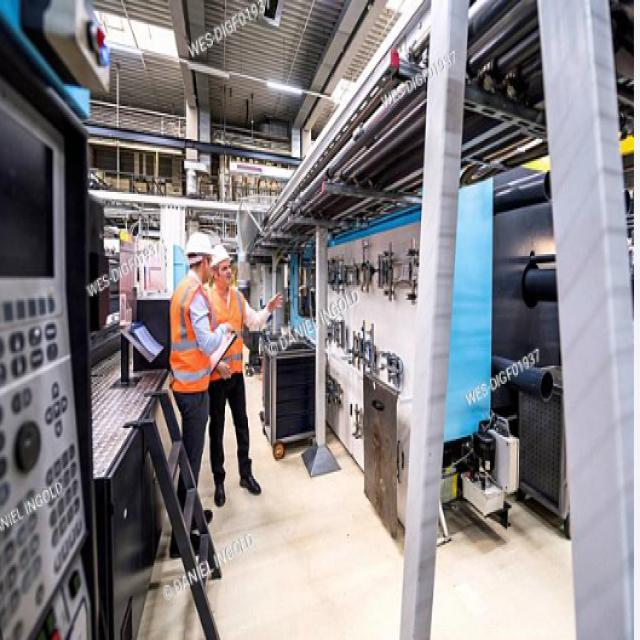boots: (212, 455, 262, 508), (168, 503, 213, 560)
helmet: (184, 230, 219, 284), (208, 240, 235, 287)
vest: (167, 274, 216, 394), (200, 280, 247, 384)
